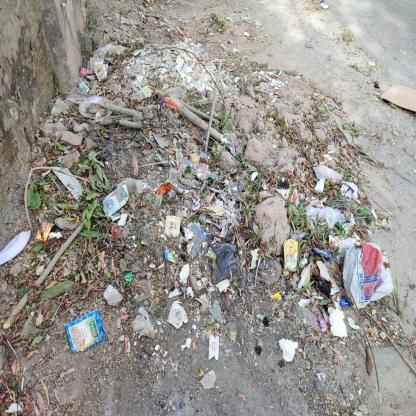Garbage: (83, 25, 403, 354)
